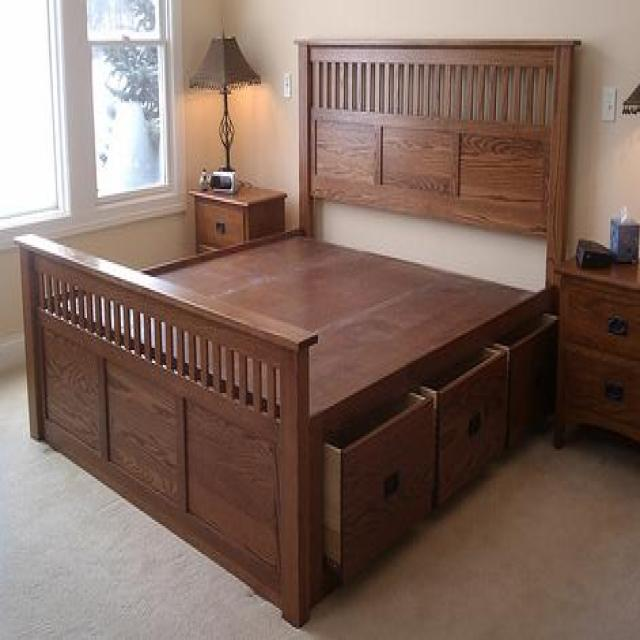bed: (14, 34, 580, 627)
